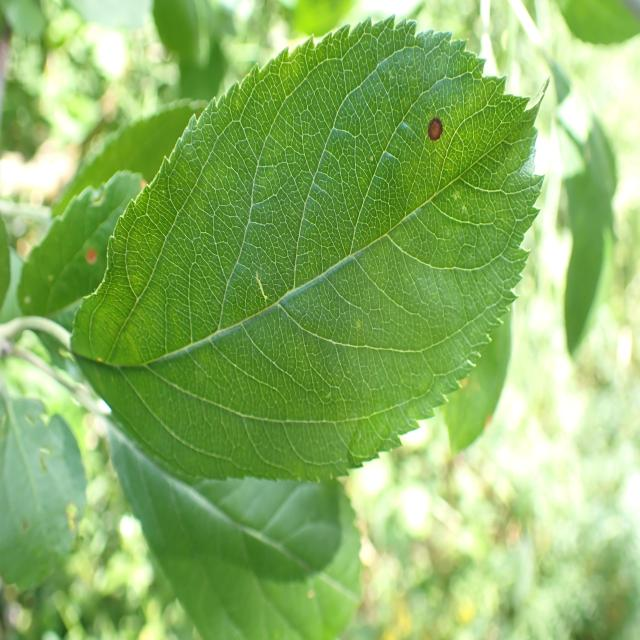Black Rot: (75, 234, 108, 280), (418, 100, 443, 160)
